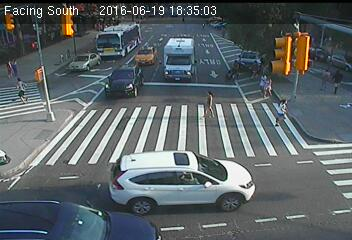neg: (25, 166, 55, 206), (285, 28, 311, 63), (233, 172, 256, 203), (324, 124, 346, 153), (122, 56, 143, 84), (194, 159, 215, 186), (102, 107, 122, 134), (276, 160, 296, 187), (64, 152, 84, 179), (182, 39, 200, 63), (227, 44, 243, 66), (165, 103, 181, 124), (87, 44, 102, 63), (143, 147, 157, 167), (63, 32, 77, 50)
pos: (199, 88, 224, 121), (274, 97, 297, 127), (10, 76, 33, 105), (314, 64, 334, 91), (329, 68, 349, 95), (261, 76, 278, 98)
